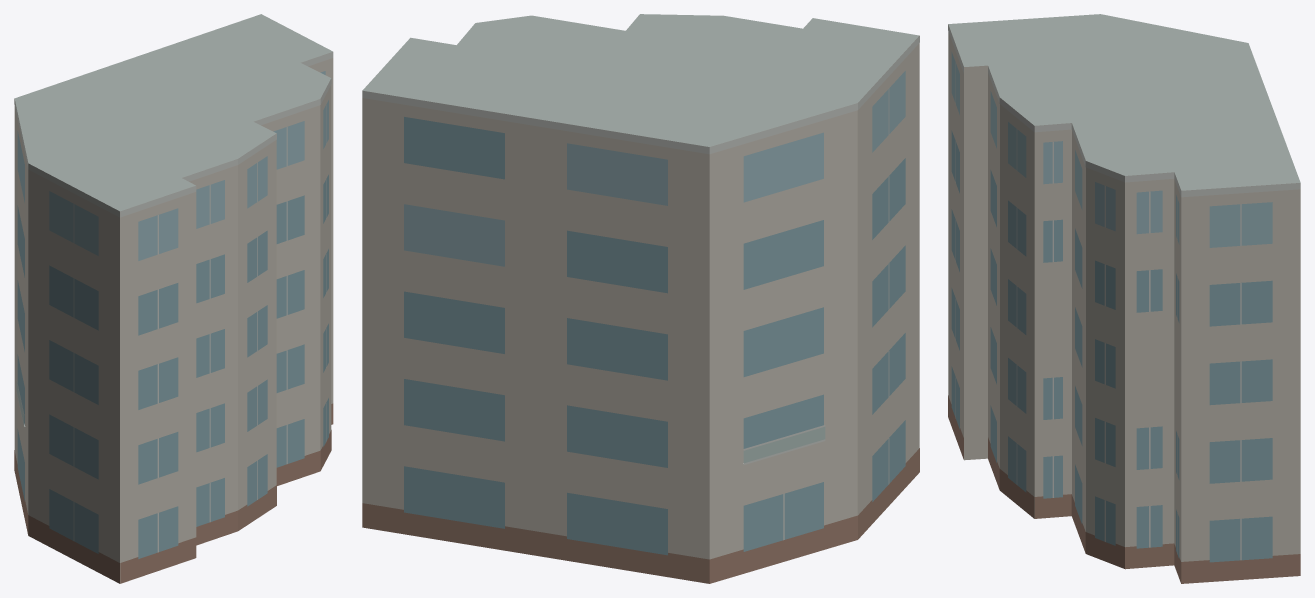
File: survey-upis-32844200.glb
3 views of the same model, side by side, from view 1: azimuth 30°, elevation 25°; view 2: azimuth 150°, elevation 25°; view 3: azimuth 270°, elevation 25° (orthographic). The views are drawn at different scales.
Visible parts, largest first — view 1: survey-upis-32844200.tmp; view 2: survey-upis-32844200.tmp; view 3: survey-upis-32844200.tmp.
Boxes of the visible parts, x1=… form: survey-upis-32844200.tmp: x1=14, y1=14, x2=333, y2=583; survey-upis-32844200.tmp: x1=362, y1=14, x2=919, y2=583; survey-upis-32844200.tmp: x1=948, y1=14, x2=1300, y2=583.
Size of the model in its own units: 14.19 by 14.7 by 11.96.
